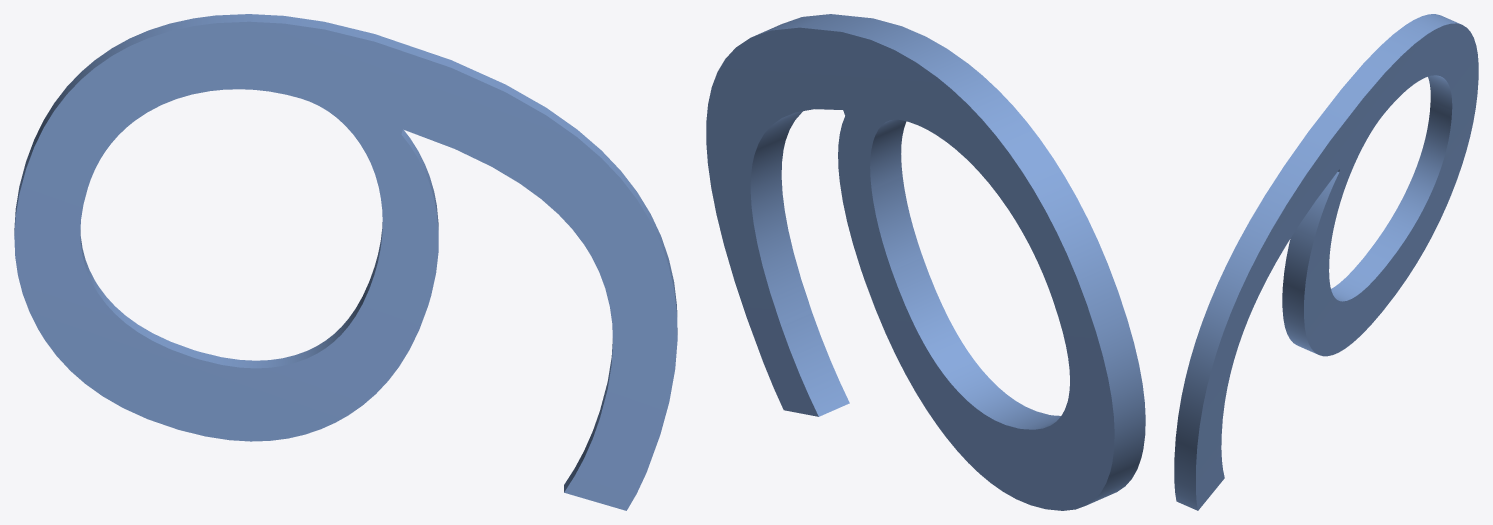
Rendered from New_Number_9.gltf.
3 views of the same model, side by side, from view 1: azimuth 30°, elevation 25°; view 2: azimuth 150°, elevation 25°; view 3: azimuth 270°, elevation 25° (orthographic). The views are drawn at different scales.
Visible parts, largest first — view 1: Part 63; view 2: Part 63; view 3: Part 63.
Part boxes in pixels (bbox=[...]): Part 63: bbox=[14, 14, 677, 510]; Part 63: bbox=[706, 14, 1145, 510]; Part 63: bbox=[1174, 14, 1478, 510].
Size of the model in its own units: 0.00488 by 0.00414 by 0.00306.
